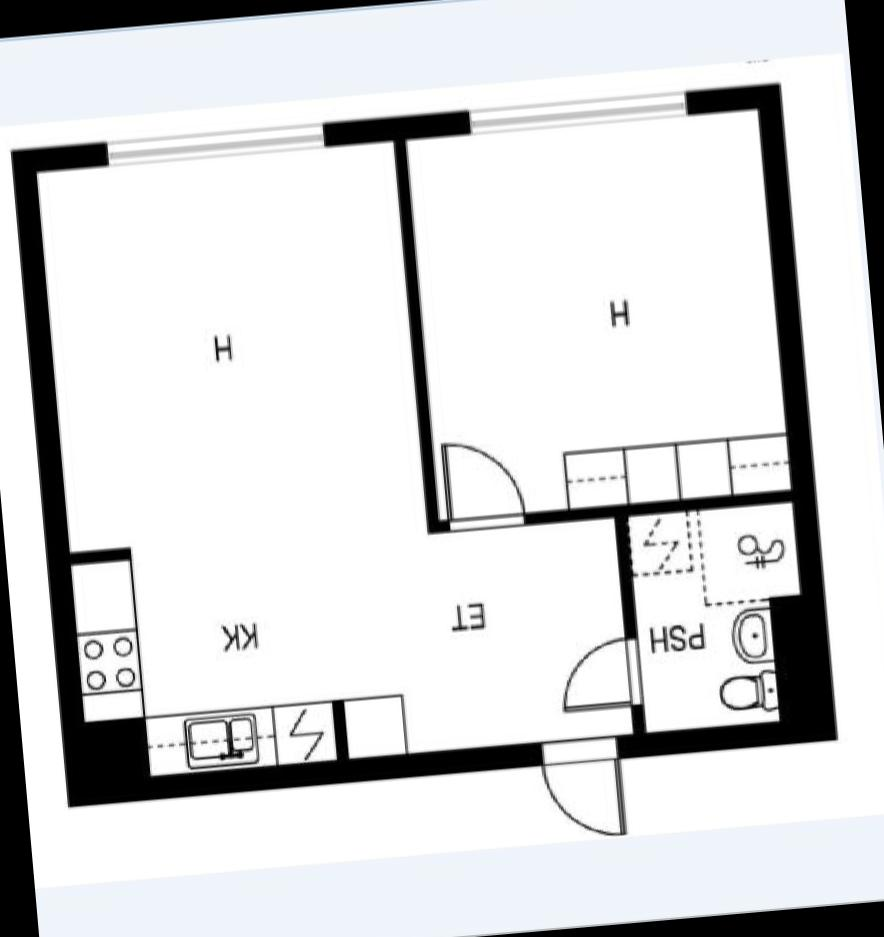door: (533, 726, 636, 842), (436, 429, 526, 531), (548, 627, 648, 714)
window: (82, 114, 338, 174), (455, 81, 698, 138)
